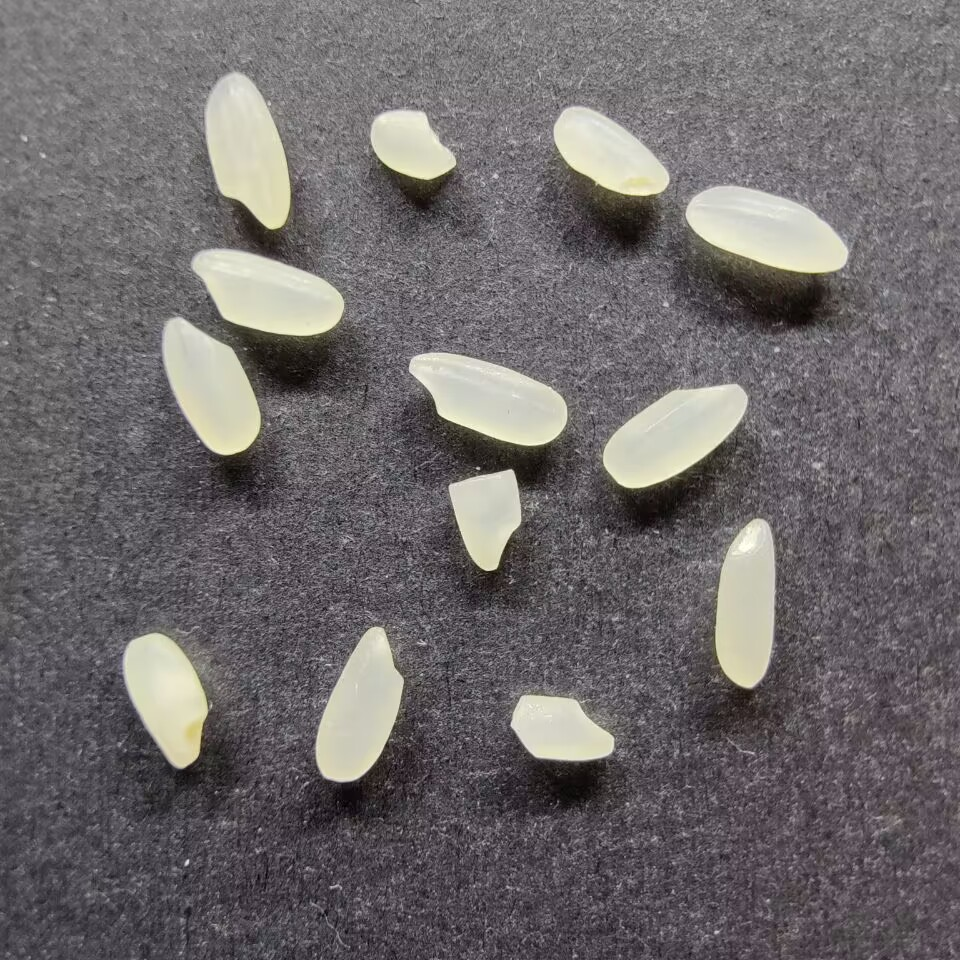broken: (446, 467, 523, 572), (508, 693, 616, 762), (368, 108, 458, 181)
rice: (600, 382, 750, 490), (406, 351, 569, 446), (683, 183, 849, 273), (312, 624, 405, 784), (201, 70, 293, 231), (159, 315, 262, 456), (189, 247, 345, 336), (120, 631, 208, 770), (712, 515, 777, 690), (551, 104, 669, 196)
